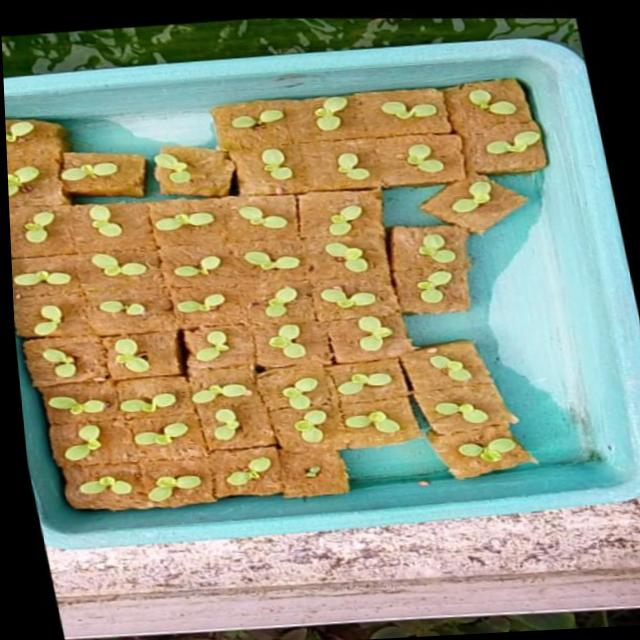Baby: (441, 177, 497, 223), (459, 85, 531, 119), (16, 205, 77, 243), (464, 120, 520, 154), (328, 242, 388, 272), (185, 329, 237, 363), (326, 278, 379, 311), (332, 368, 391, 397), (34, 348, 78, 384), (94, 301, 160, 324), (44, 395, 110, 417), (148, 474, 201, 501), (384, 101, 450, 122), (421, 226, 458, 263), (457, 434, 514, 458), (225, 455, 271, 484), (113, 338, 151, 373), (94, 253, 150, 276), (66, 424, 101, 460), (357, 314, 392, 350), (268, 322, 304, 356), (173, 254, 224, 278), (191, 383, 251, 403), (316, 97, 350, 132), (282, 375, 317, 408), (433, 399, 487, 420), (428, 352, 470, 379), (246, 250, 301, 270), (266, 285, 300, 317), (119, 393, 176, 412), (293, 406, 325, 439), (348, 413, 400, 433), (405, 145, 442, 173), (332, 203, 364, 235), (91, 206, 124, 237), (262, 148, 295, 179), (81, 474, 134, 493), (179, 293, 227, 313), (418, 278, 453, 303), (37, 305, 66, 335), (339, 152, 371, 179), (16, 270, 73, 285), (213, 408, 239, 440), (244, 206, 280, 228), (135, 427, 178, 444)
